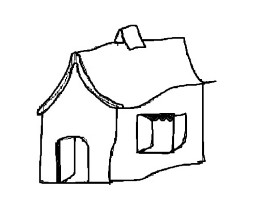door: (50, 131, 93, 188)
open_window: (133, 110, 193, 158)
roof: (31, 25, 216, 113)
wall: (34, 49, 120, 188)
